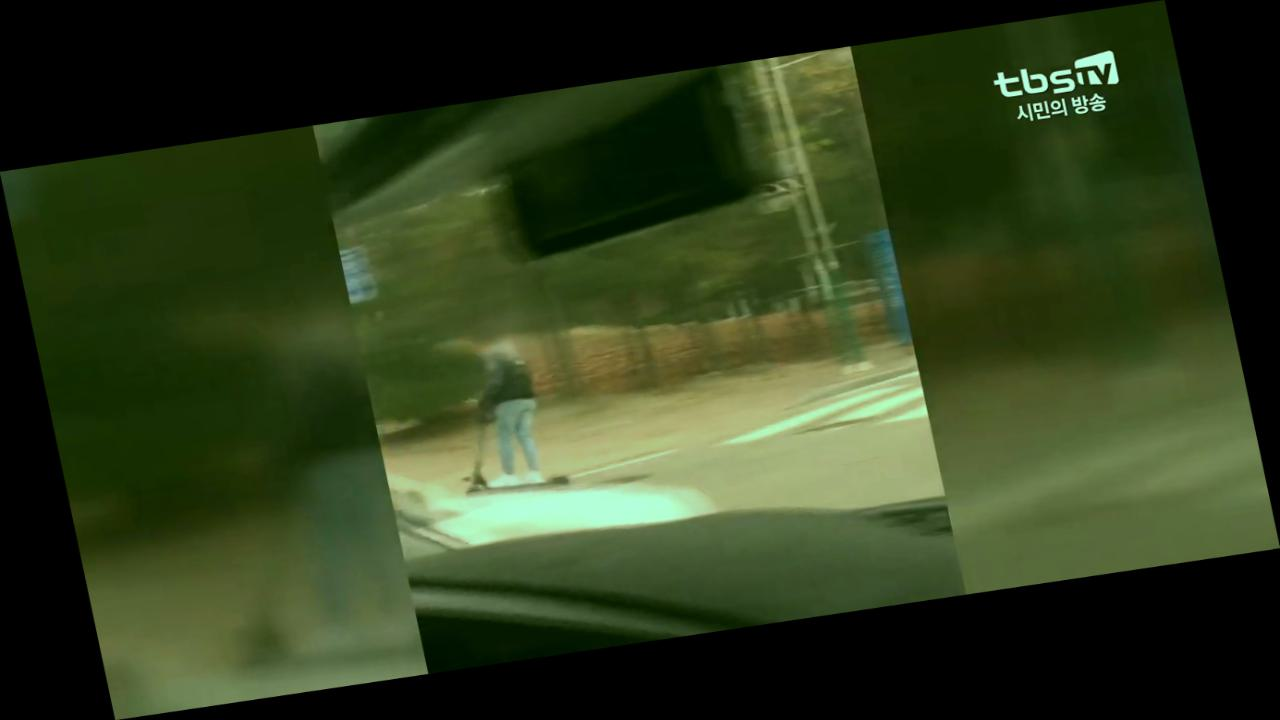nonhelmet: (432, 317, 582, 506)
